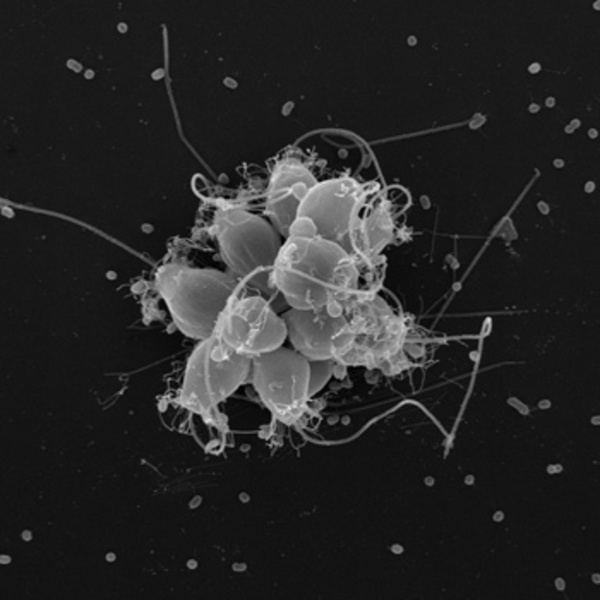Jellyfish: (0, 24, 541, 489)
